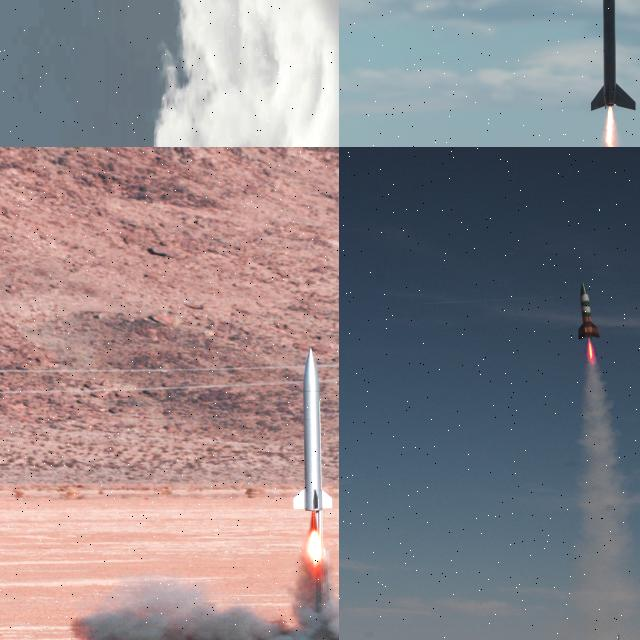Rocket: (292, 347, 332, 512), (589, 0, 637, 111), (578, 282, 601, 340)
